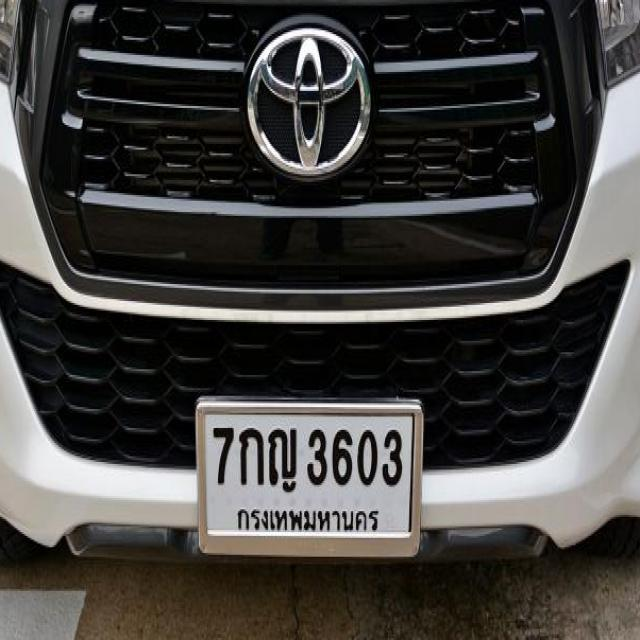license_plate: (191, 390, 428, 566)
